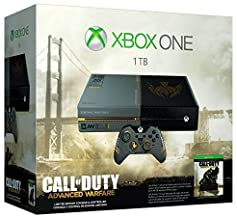gamingconsole: (115, 125, 166, 164)
